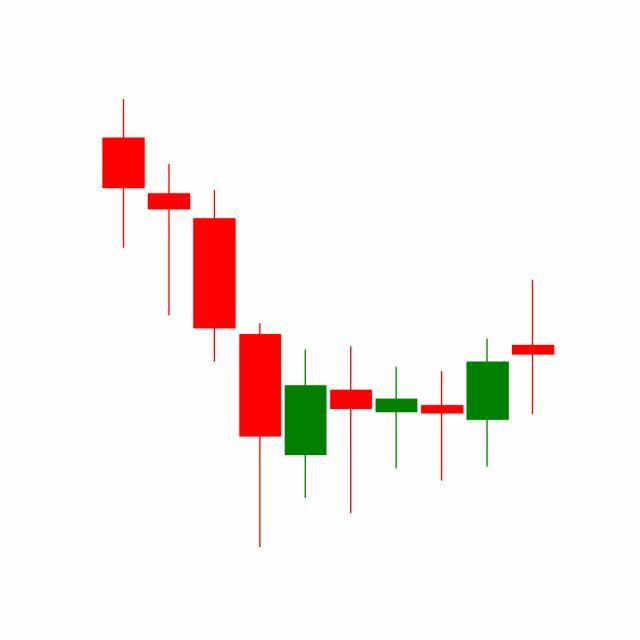Hikkake Pattern: (283, 337, 512, 517)
